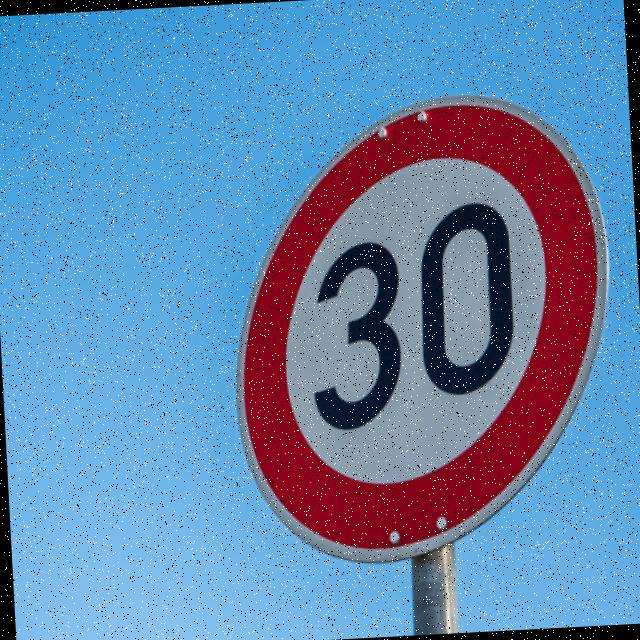speed_limit_30: (198, 76, 628, 574)
